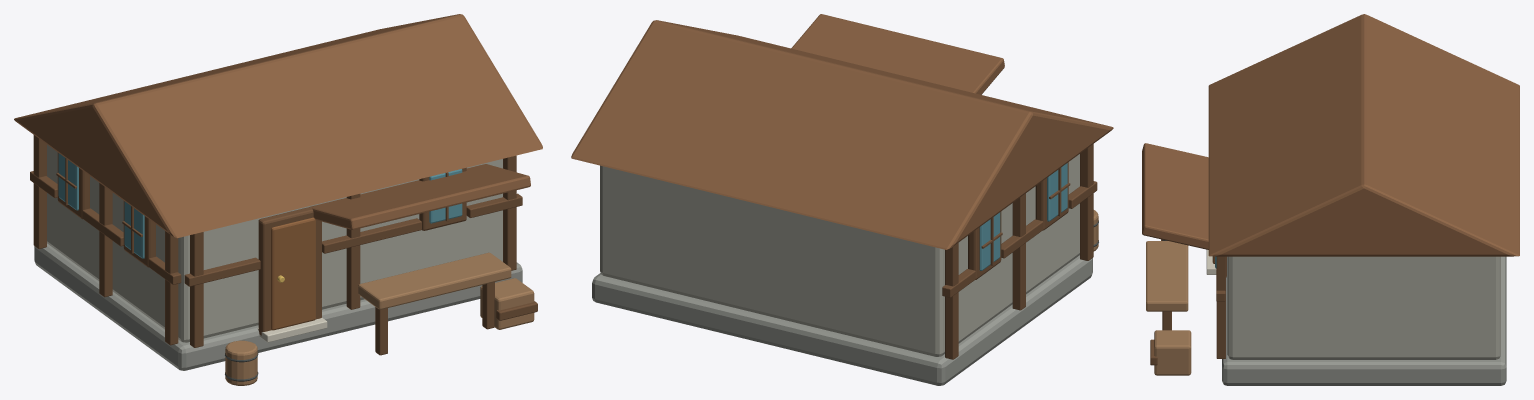
File: temperate-artisan-0.glb
3 renders of one model, left to right at view 1: azimuth 30°, elevation 25°; view 2: azimuth 150°, elevation 25°; view 3: azimuth 270°, elevation 25°, orthographic. The views are drawn at different scales.
Visible parts, largest first — view 1: Wood shingles, Fieldstone, Dark beams, Foundation stone, Aged oak, Door oak, Blue glass, Cut limestone; view 2: Wood shingles, Fieldstone, Foundation stone, Dark beams, Blue glass; view 3: Wood shingles, Fieldstone, Foundation stone, Aged oak, Dark beams.
Part boxes in pixels (bbox=[...]): Wood shingles: bbox=[14, 14, 542, 238]; Fieldstone: bbox=[47, 144, 502, 342]; Dark beams: bbox=[30, 135, 537, 355]; Foundation stone: bbox=[34, 243, 522, 370]; Aged oak: bbox=[225, 252, 534, 385]; Door oak: bbox=[271, 217, 315, 330]; Blue glass: bbox=[58, 153, 462, 258]; Cut limestone: bbox=[257, 318, 327, 342]; Wood shingles: bbox=[571, 14, 1113, 249]; Fieldstone: bbox=[600, 154, 1079, 356]; Foundation stone: bbox=[592, 255, 1092, 385]; Dark beams: bbox=[942, 144, 1097, 359]; Blue glass: bbox=[979, 163, 1067, 270]; Wood shingles: bbox=[1142, 14, 1519, 256]; Fieldstone: bbox=[1227, 256, 1500, 359]; Foundation stone: bbox=[1222, 256, 1506, 385]; Aged oak: bbox=[1146, 239, 1191, 375]; Dark beams: bbox=[1150, 256, 1226, 365].
Size of the model in its own units: 4.34 by 2.44 by 4.01.
